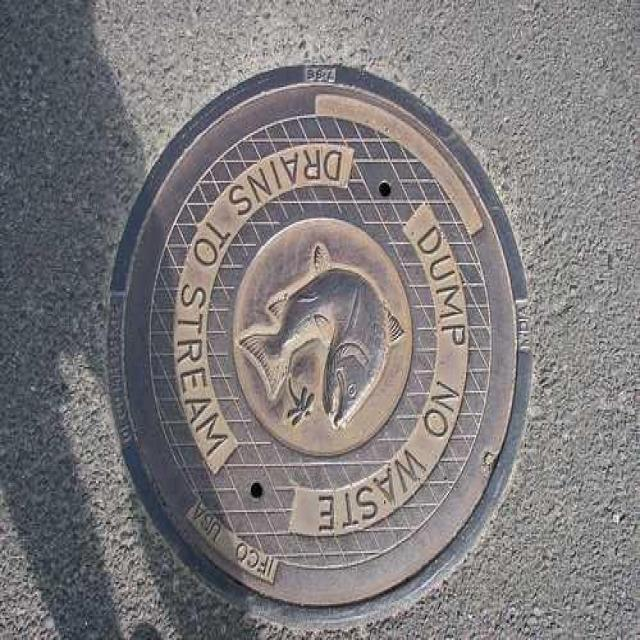manhole: (111, 67, 530, 622)
